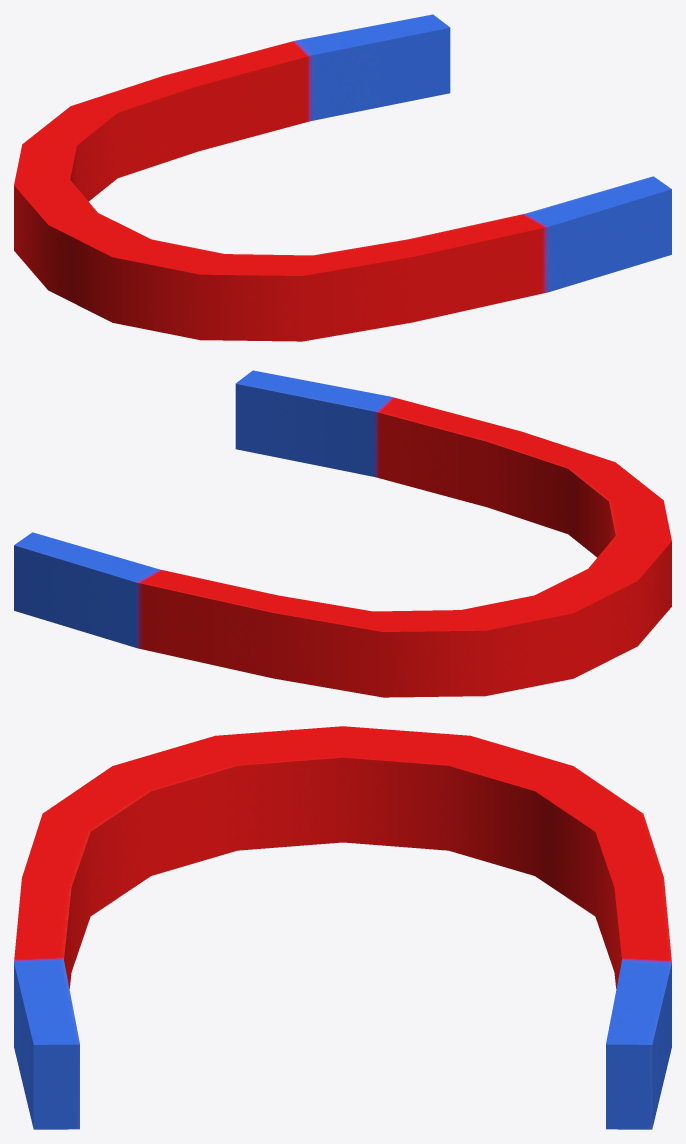
Rendered from Magnet.fbx.
The picture shows the model from 3 angles, top to bottom: view 1: azimuth 30°, elevation 25°; view 2: azimuth 150°, elevation 25°; view 3: azimuth 270°, elevation 25°; orthographic projection. The views are drawn at different scales.
Parts seen in each view (by area): view 1: Magnet; view 2: Magnet; view 3: Magnet.
Part boxes in pixels (left/top/right/bottom): Magnet: left=14, top=14, right=671, bottom=341; Magnet: left=14, top=370, right=671, bottom=697; Magnet: left=14, top=726, right=671, bottom=1129.
Size of the model in its own units: 2.11 by 0.2619 by 1.84.
Materials: 1 (1 with a texture image).
